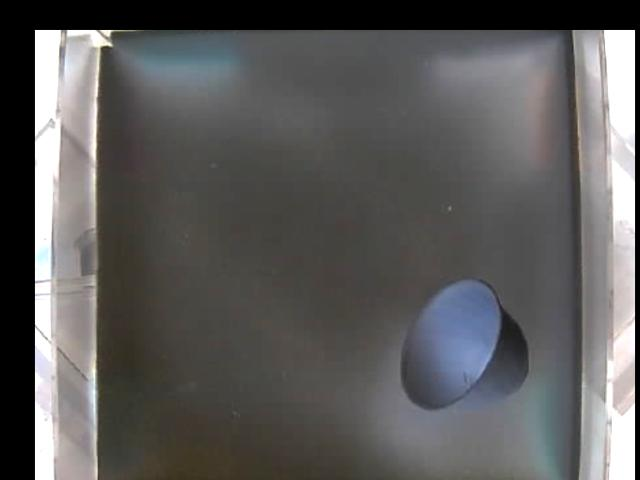Cup: (396, 281, 529, 410)
